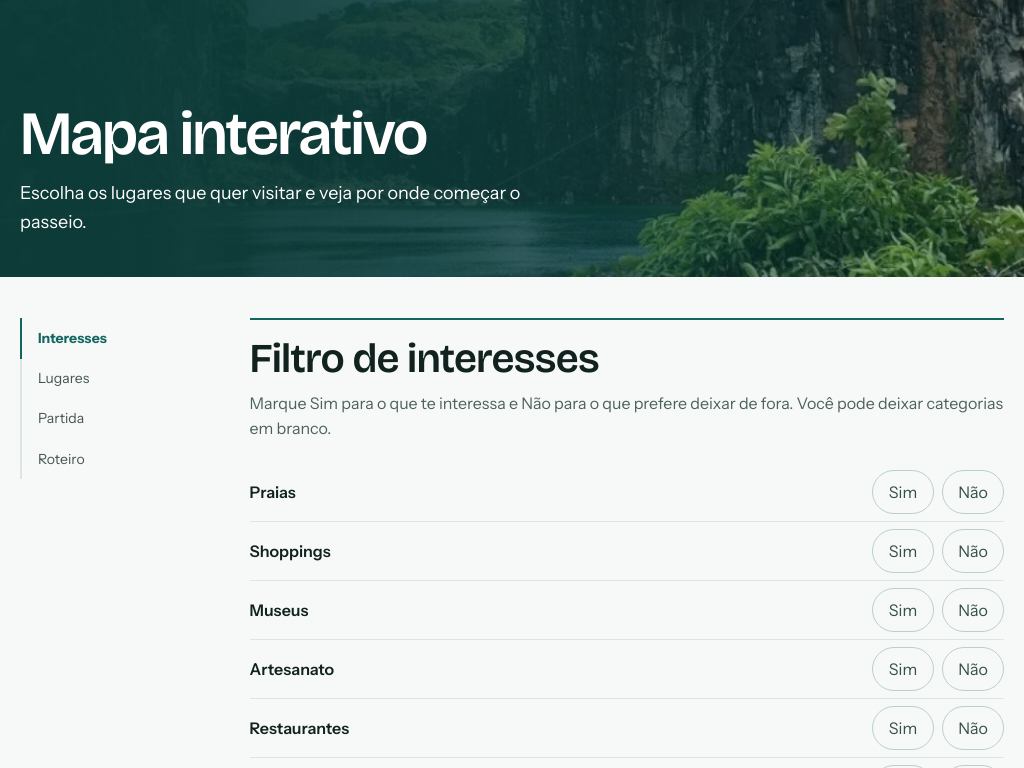
repete uma consulta com falha e permite alterar um filtro sem resultados
Click the radio button labelled "Sim" in the row of "Praias".
click(903, 492)  # box [872,470,934,514]
(page scrolled)
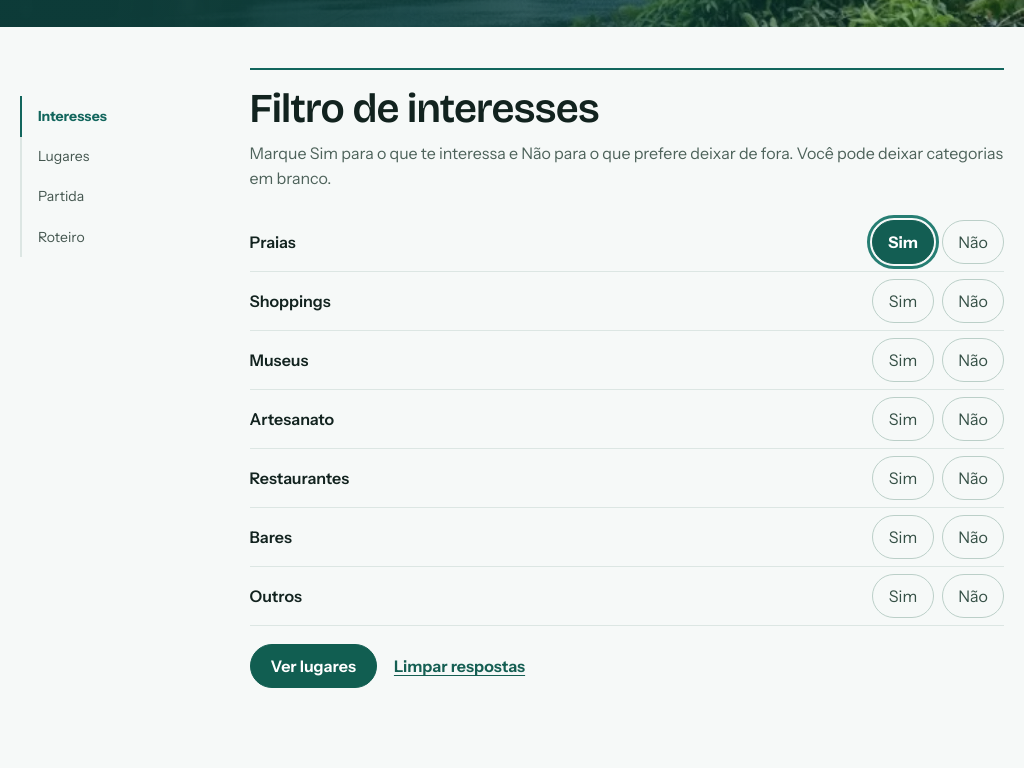
Click the button "Ver lugares".
click(313, 666)  # box [250,644,377,688]
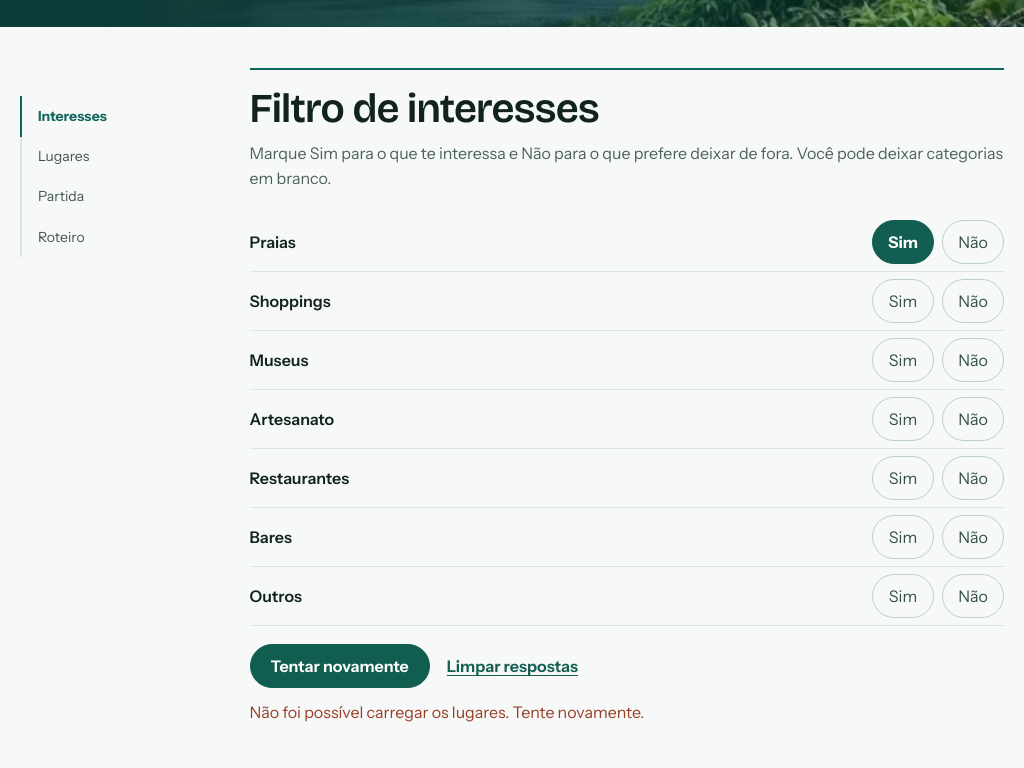
Now the message shows "carregar os lugares", box [250,702,644,722]
Click the button "Tentar novamente".
click(340, 666)  # box [250,644,430,688]
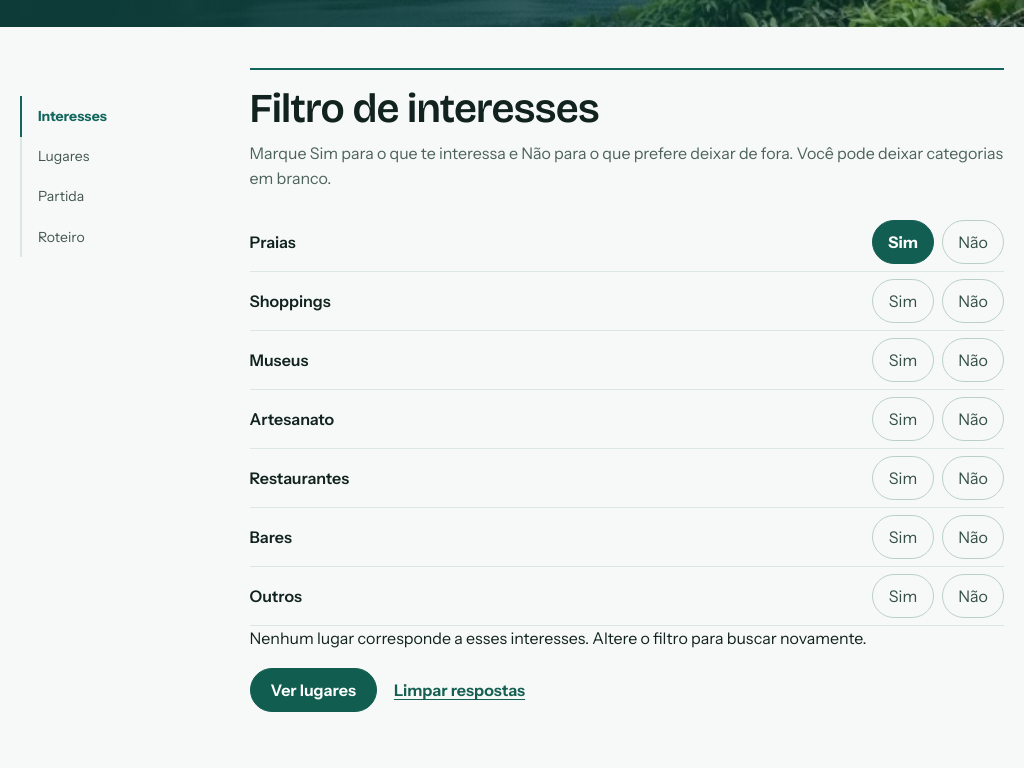
Now the radio button labelled "Sim" in the row of "Praias" is checked, box [872,220,934,264]
Now the message shows "Nenhum lugar", box [250,628,867,648]
